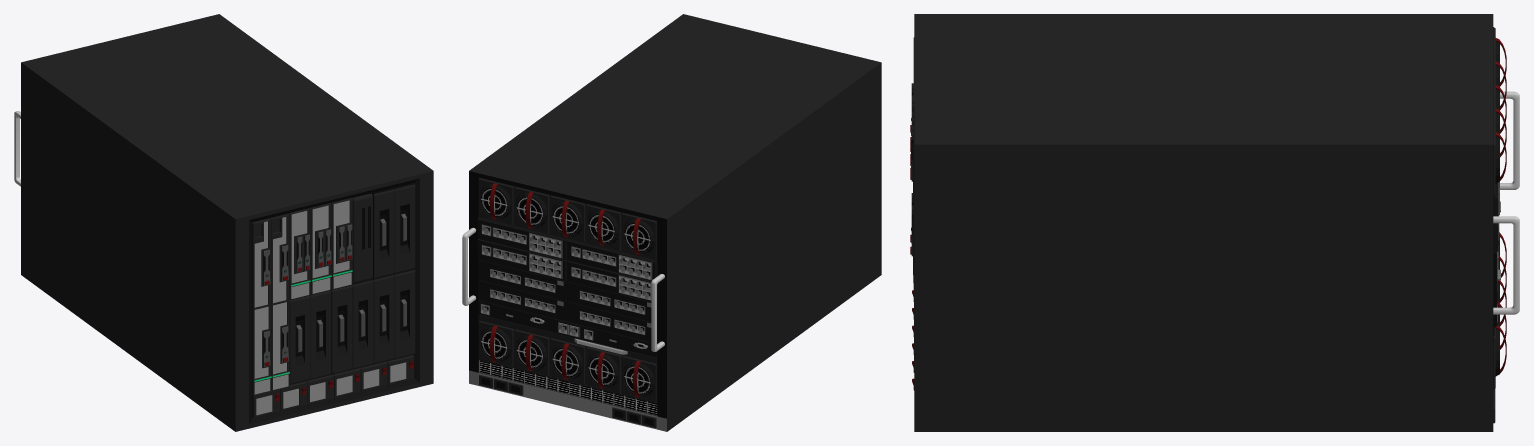
3 renders of one model, left to right at view 1: azimuth 30°, elevation 25°; view 2: azimuth 150°, elevation 25°; view 3: azimuth 270°, elevation 25°, orthographic. The views are drawn at different scales.
Parts seen in each view (by area): view 1: HPE_BL860; view 2: HPE_BL860; view 3: HPE_BL860.
Part boxes in pixels (<box>): HPE_BL860: <box>14,14,433,431</box>; HPE_BL860: <box>462,14,881,431</box>; HPE_BL860: <box>910,14,1519,431</box>.
Bounding box in the file's own units: 434 × 445 × 855.
Materials: 19 (2 with a texture image).
